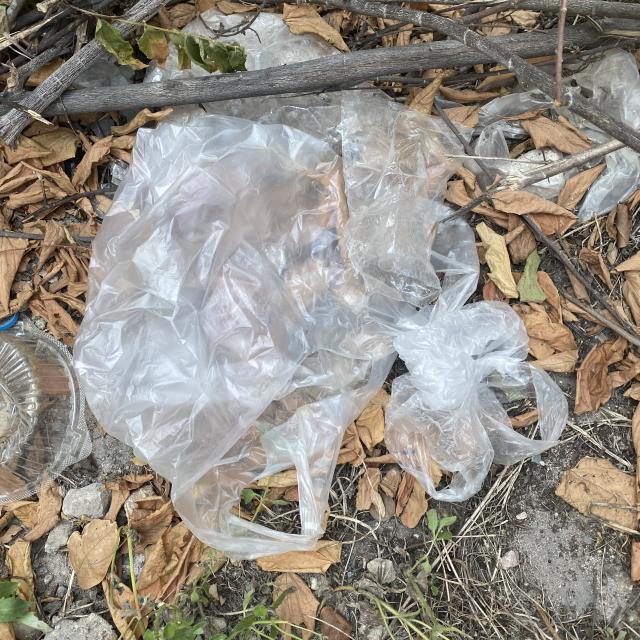Single-layer Plastic: (73, 96, 575, 572), (475, 90, 611, 175), (564, 50, 640, 131), (579, 148, 640, 220)
